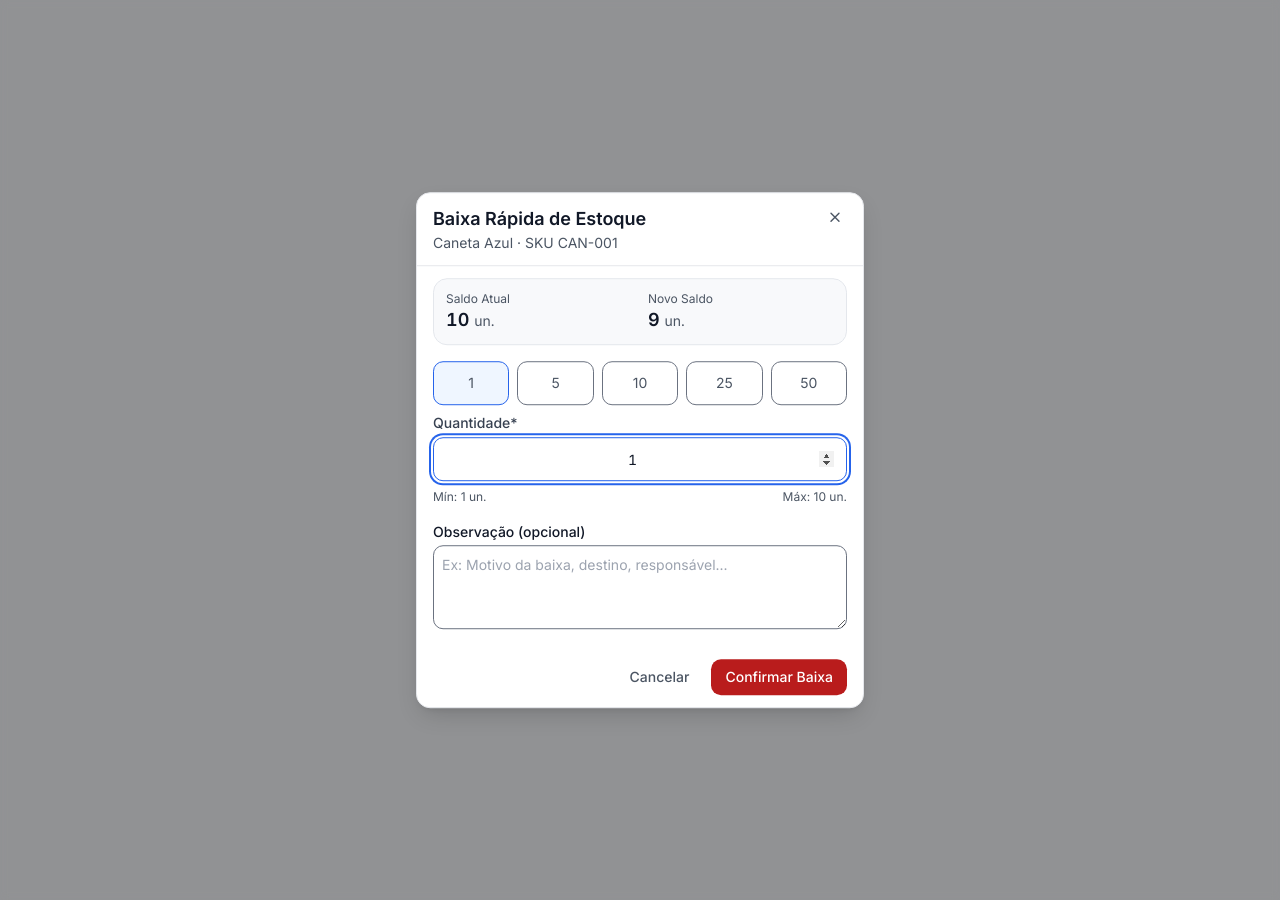
Test: QuickOutModal — atalhos de quantidade (QOM-6) › QOM-6 · acionar um atalho define a quantidade e só ele fica marcado
Click the button "25". click: point(724, 383)
box: [686, 361, 763, 405]
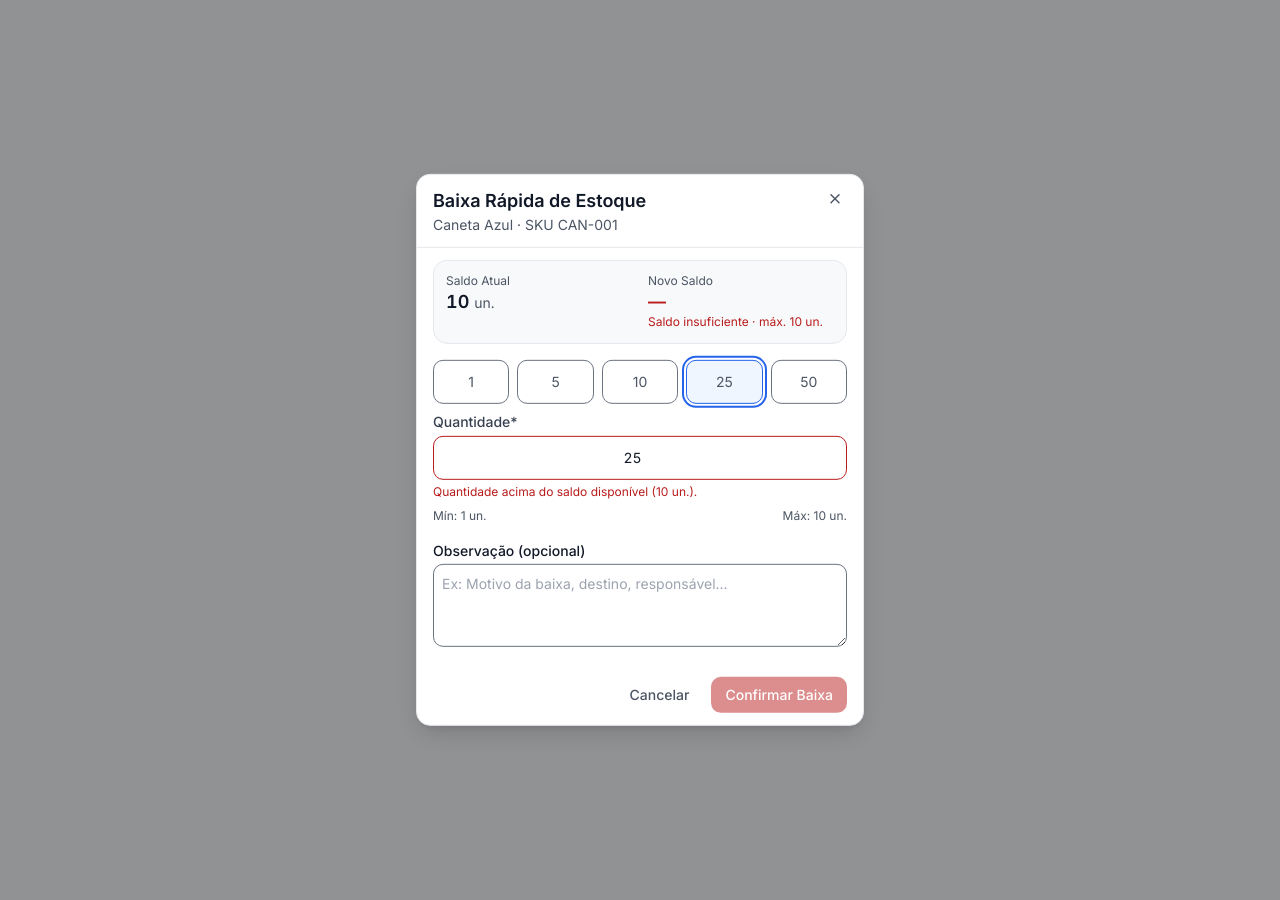
Now the number field holds "25", box [433, 436, 847, 480]
